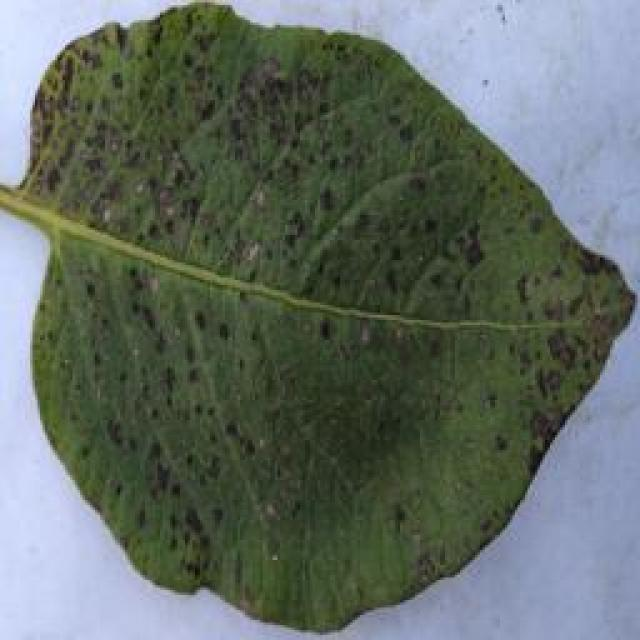Potato_Early_Blight: (0, 5, 628, 633)
